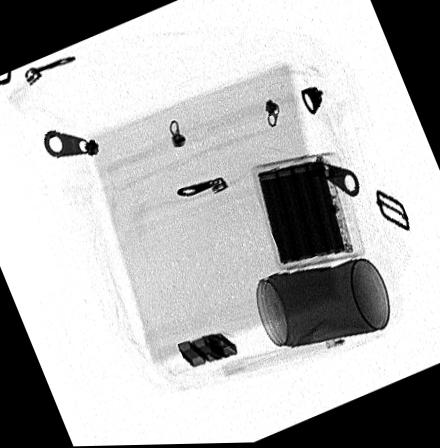Powerbank: (249, 152, 363, 271)
